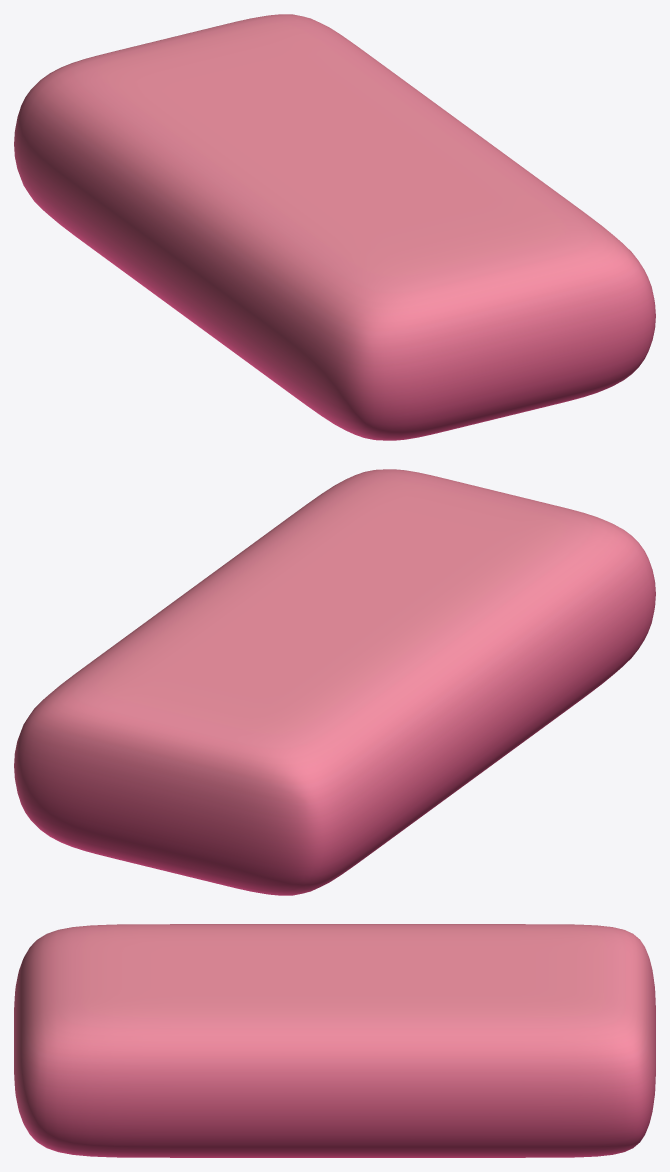
File: soap.fbx
3 renders of one model, top to bottom at view 1: azimuth 30°, elevation 25°; view 2: azimuth 150°, elevation 25°; view 3: azimuth 270°, elevation 25°, orthographic. The views are drawn at different scales.
Parts seen in each view (by area): view 1: Soap; view 2: Soap; view 3: Soap.
Boxes of the visible parts, bbox=[...] form: Soap: bbox=[14, 14, 655, 440]; Soap: bbox=[14, 469, 655, 895]; Soap: bbox=[14, 924, 655, 1157].
Bounding box in the file's own units: 302 × 141 × 585.
